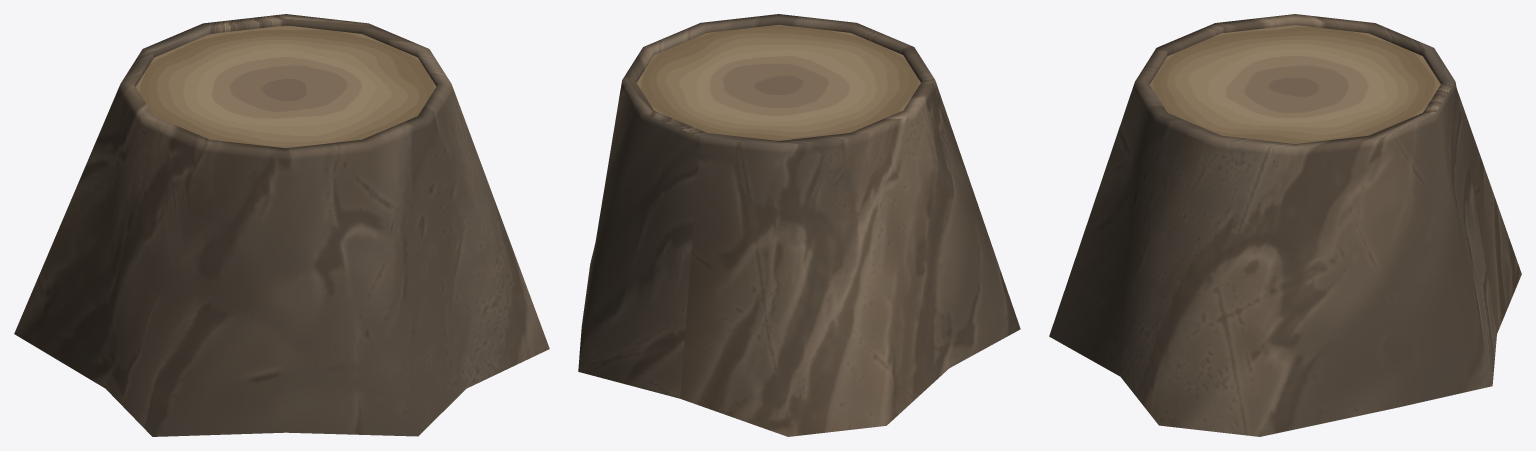
File: tree01_trunk.fbx
3 renders of one model, left to right at view 1: azimuth 30°, elevation 25°; view 2: azimuth 150°, elevation 25°; view 3: azimuth 270°, elevation 25°, orthographic. The views are drawn at different scales.
Parts seen in each view (by area): view 1: Cylinder.004; view 2: Cylinder.004; view 3: Cylinder.004.
Boxes of the visible parts, x1,y1,x2,y2 form: Cylinder.004: (14, 14, 549, 436); Cylinder.004: (578, 14, 1020, 436); Cylinder.004: (1049, 14, 1521, 436).
Bounding box in the file's own units: 45.7 × 27.61 × 46.87.
